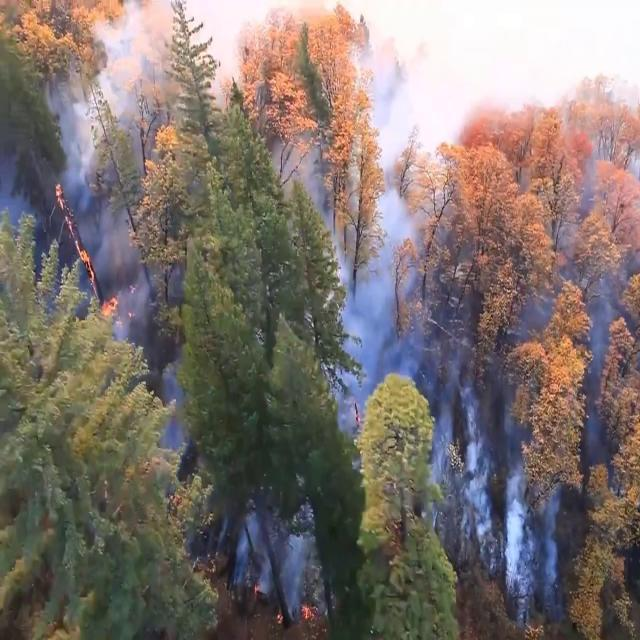Smoke: (312, 128, 560, 571)
